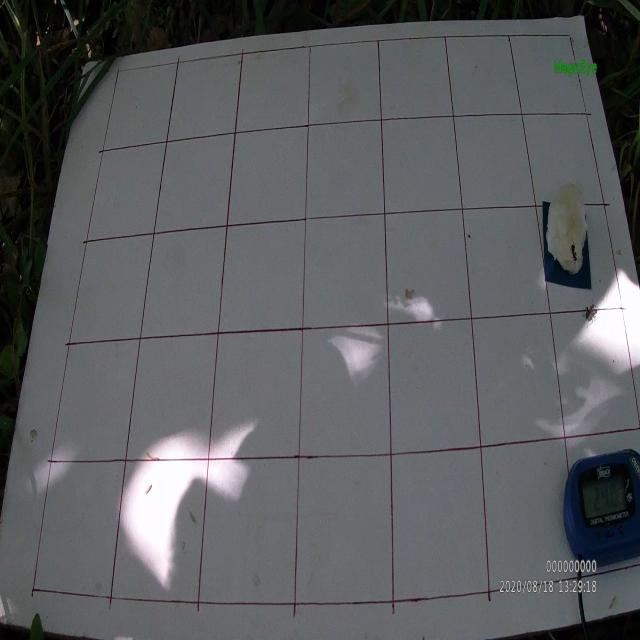Ant: (582, 297, 599, 326), (568, 239, 579, 265)
